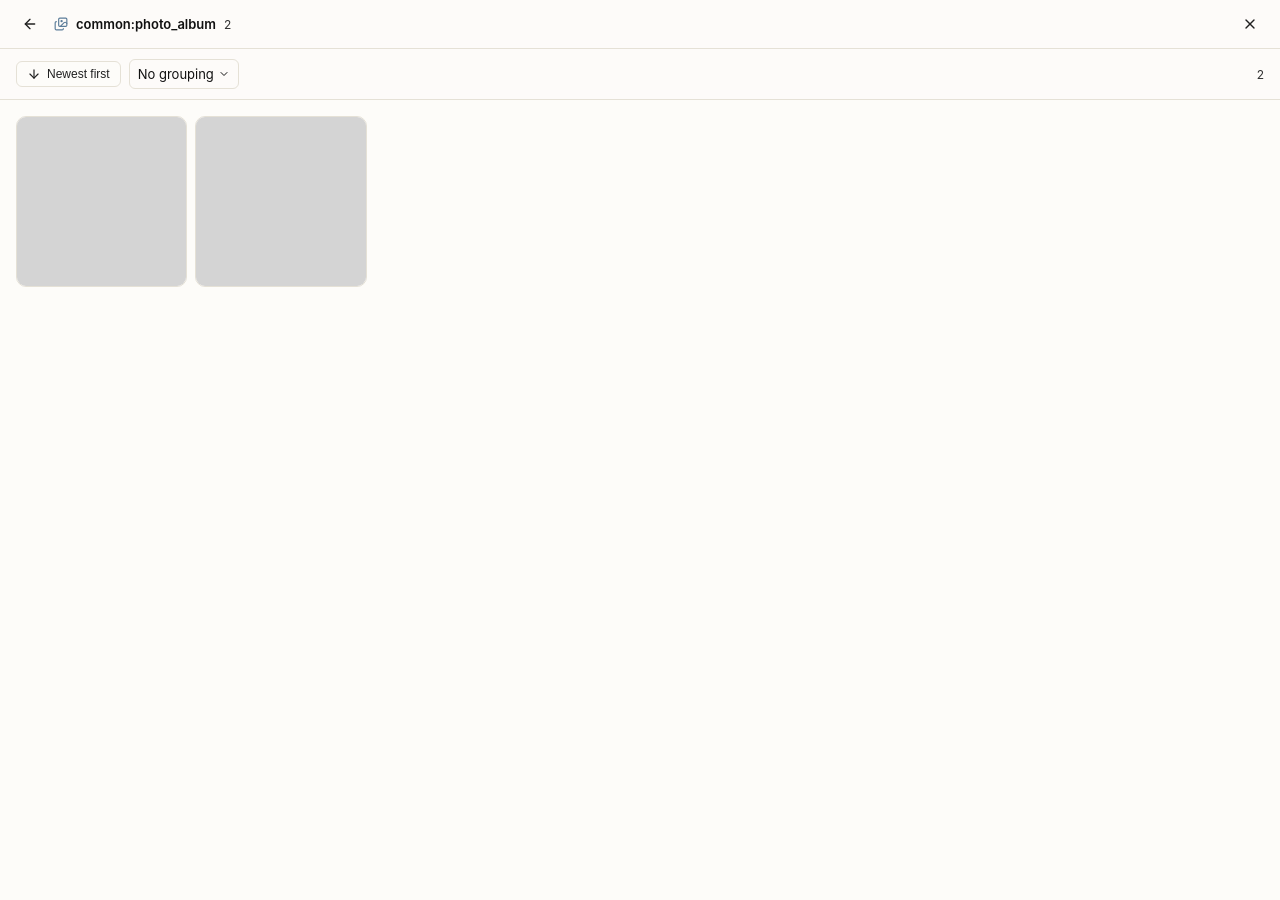
PhotoAlbumOverlay › groups photos by year with separators (需求5：时间分组)
Note: 打开分组下拉并选择「按年」（DropdownSelect 触发按钮可访问名来自 ariaLabel）
Click the button "No grouping". click: (184, 74)
box: [129,59,239,89]
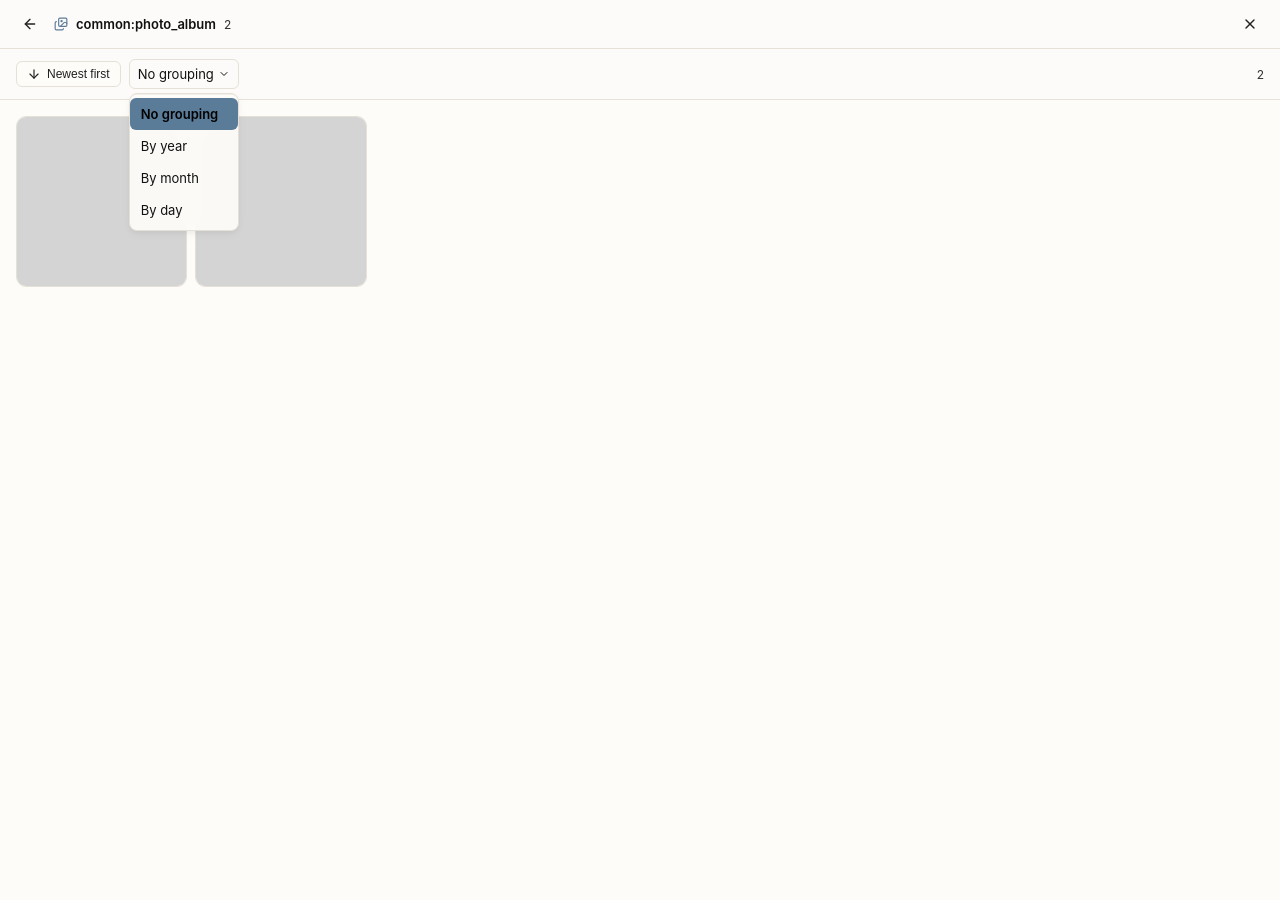
Click the button "By year". click: (184, 146)
box: [130,130,238,162]
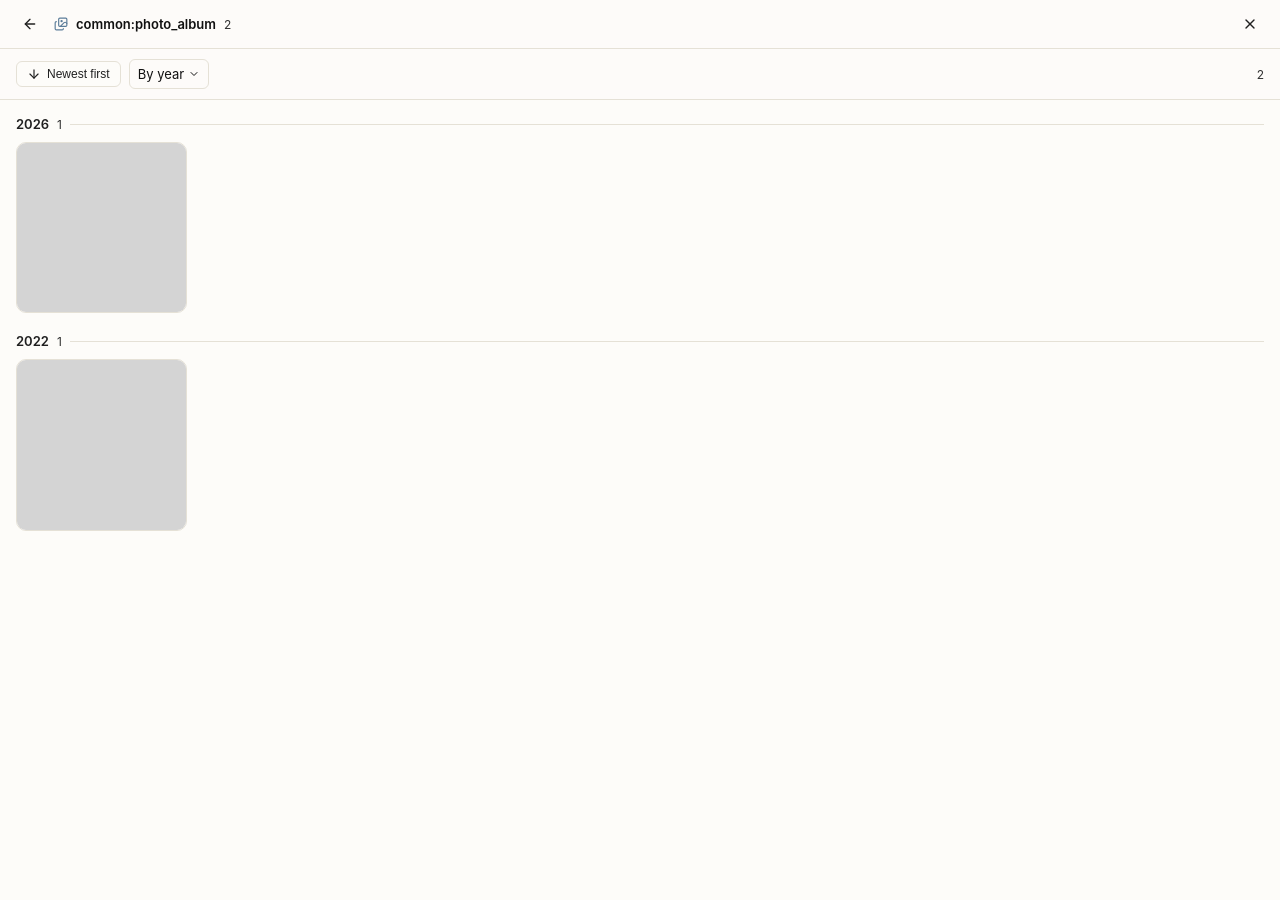
Check: the text "2026" is shown, box [16,116,49,132]
Check: the text "2022" is shown, box [16,333,49,349]
